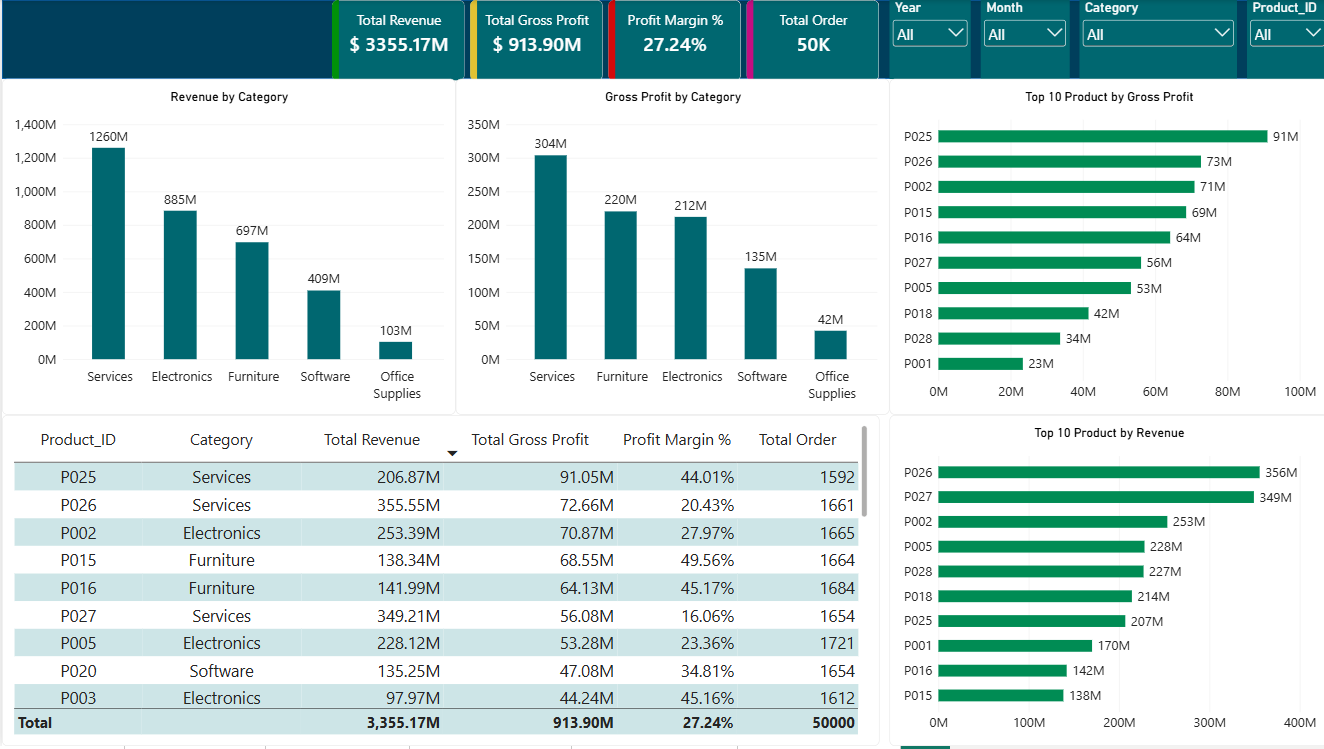

This screenshot's page, from the dashboard's own definition file:
{"tool":"powerbi","page":{"name":"Product Analysis","canvas":[1920,1080],"ordinal":5},"visuals":[{"type":"shape","box":[0,0,1920.1,114],"z":0},{"type":"cardVisual","fields":{"Data":["Sales.Total Revenue","Sales.Total Gross Profit","Sales.Profit Margin %","Sales.Total Order"]},"box":[477.8,0,792.6,117.6],"z":1000},{"type":"slicer","fields":{"Values":["Calendar.Year"]},"box":[1284.9,0,117.6,114],"z":2000},{"type":"slicer","fields":{"Values":["Calendar.Month"]},"box":[1417,0,128.5,114],"z":3000},{"type":"slicer","fields":{"Values":["finance products.Category"]},"box":[1559.9,0,228,114],"z":4000},{"type":"slicer","fields":{"Values":["finance products.Product_ID"]},"box":[1802.4,0,117.6,114],"z":5000},{"type":"columnChart","title":" Revenue by Category","fields":{"Category":["finance products.Category"],"Y":["Sales.Total Revenue"]},"box":[0,114,656.9,486.8],"z":6000},{"type":"columnChart","title":"Gross Profit by Category","fields":{"Category":["finance products.Category"],"Y":["Sales.Total Gross Profit"]},"box":[656.9,114,628,486.8],"z":7000},{"type":"barChart","title":"Top 10 Product by Revenue","fields":{"Y":["Sales.Total Revenue"],"Category":["finance sales.Product_ID"]},"box":[1284.9,600.8,635.2,479.6],"z":8000},{"type":"barChart","title":"Top 10 Product by Gross Profit","fields":{"Category":["finance sales.Product_ID"],"Y":["Sales.Total Gross Profit"]},"box":[1284.9,114,635.2,486.8],"z":9000},{"type":"tableEx","fields":{"Values":["finance sales.Product_ID","finance sales.Category","Sales.Total Revenue","Sales.Total Gross Profit","Sales.Profit Margin %","Sales.Total Order"]},"box":[0,600.8,1270.4,479.6],"z":10000},{"type":"image","box":[0,0,465.1,114],"z":11000}]}

Visuals, with their boxes in screenshot pixels (x1, y1, x2, y2), scaled from the page's 1920x1080 canvas onto the 1324x749 screenshot:
shape: Rect(0, 0, 1323, 79)
cardVisual - Sales.Total Revenue x Sales.Total Gross Profit: Rect(329, 0, 876, 82)
slicer - Calendar.Year: Rect(886, 0, 967, 79)
slicer - Calendar.Month: Rect(977, 0, 1066, 79)
slicer - finance products.Category: Rect(1076, 0, 1233, 79)
slicer - finance products.Product_ID: Rect(1243, 0, 1323, 79)
" Revenue by Category" columnChart: Rect(0, 79, 453, 417)
"Gross Profit by Category" columnChart: Rect(453, 79, 886, 417)
"Top 10 Product by Revenue" barChart: Rect(886, 417, 1323, 748)
"Top 10 Product by Gross Profit" barChart: Rect(886, 79, 1323, 417)
tableEx - finance sales.Product_ID x finance sales.Category: Rect(0, 417, 876, 748)
image: Rect(0, 0, 321, 79)
